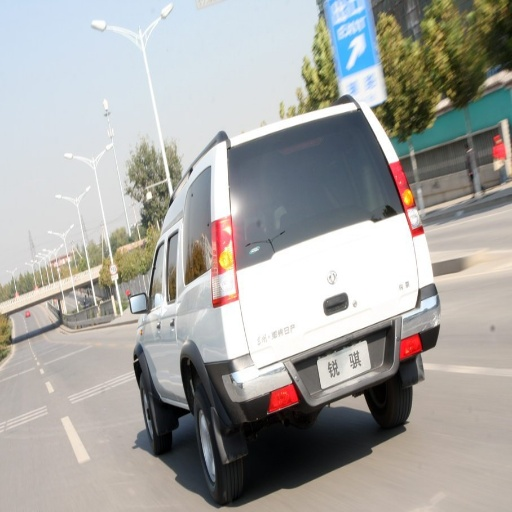back_bumper: (193, 299, 438, 437)
trunk: (209, 190, 418, 360)
